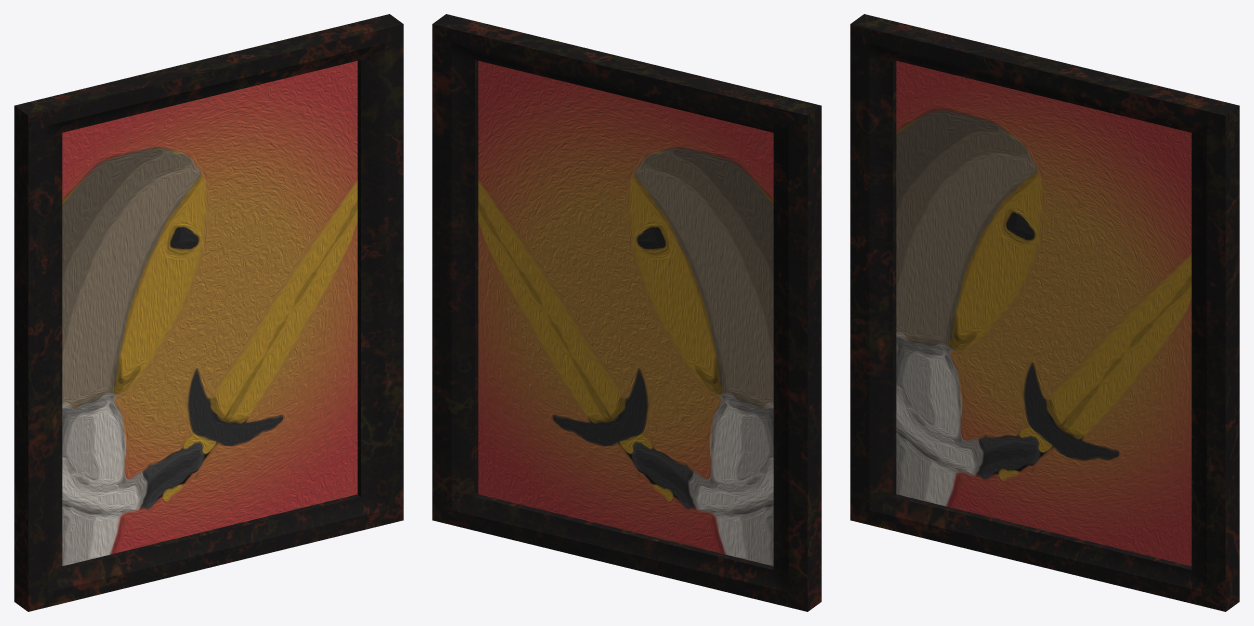
The model's file is Painting 1.fbx.
3 renders of one model, left to right at view 1: azimuth 30°, elevation 25°; view 2: azimuth 150°, elevation 25°; view 3: azimuth 330°, elevation 25°, orthographic.
Visible parts, largest first — view 1: pCube10; view 2: pCube10; view 3: pCube10.
Boxes of the visible parts, box(x1,y1,x2,y2) form: pCube10: box(14, 14, 403, 611); pCube10: box(432, 14, 821, 611); pCube10: box(850, 14, 1239, 611).
Bounding box in the file's own units: 232 × 293 × 14.88.
